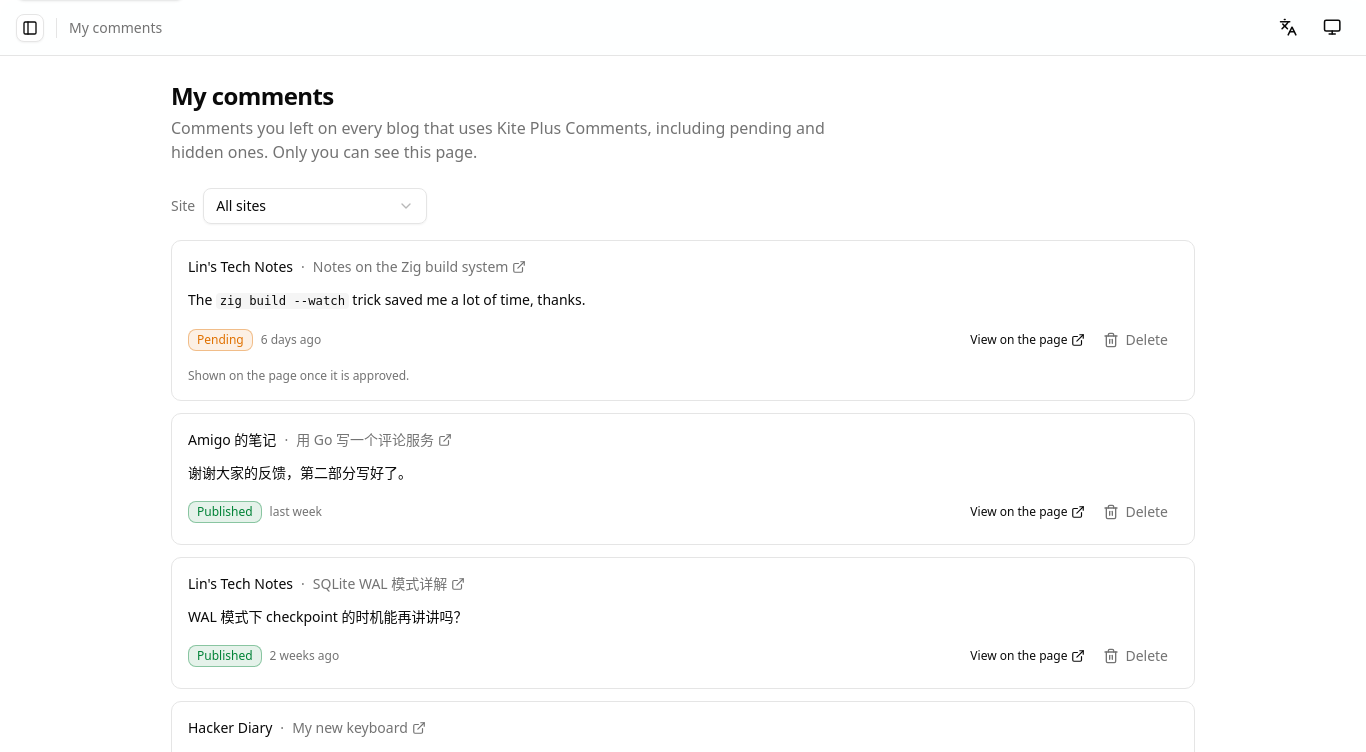
Test: language › switches between English and Chinese
The image size is (1366, 752).
Expected: the heading "My comments" is shown, [171,79,334,112]
Step 1. Click the button named "Language" → (1288, 28), box [1270,10,1306,46]
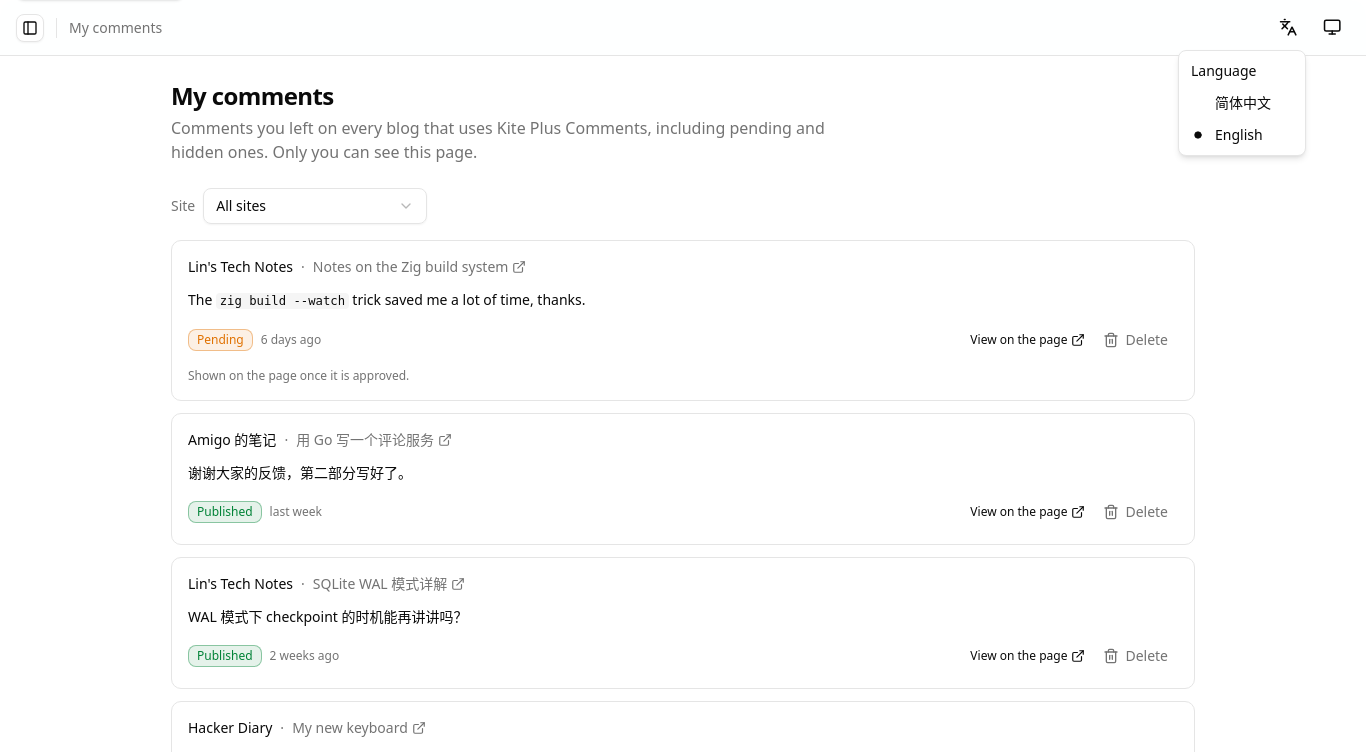
Step 2. Click the menu item "简体中文" → (1243, 102), box [1215,93,1271,112]
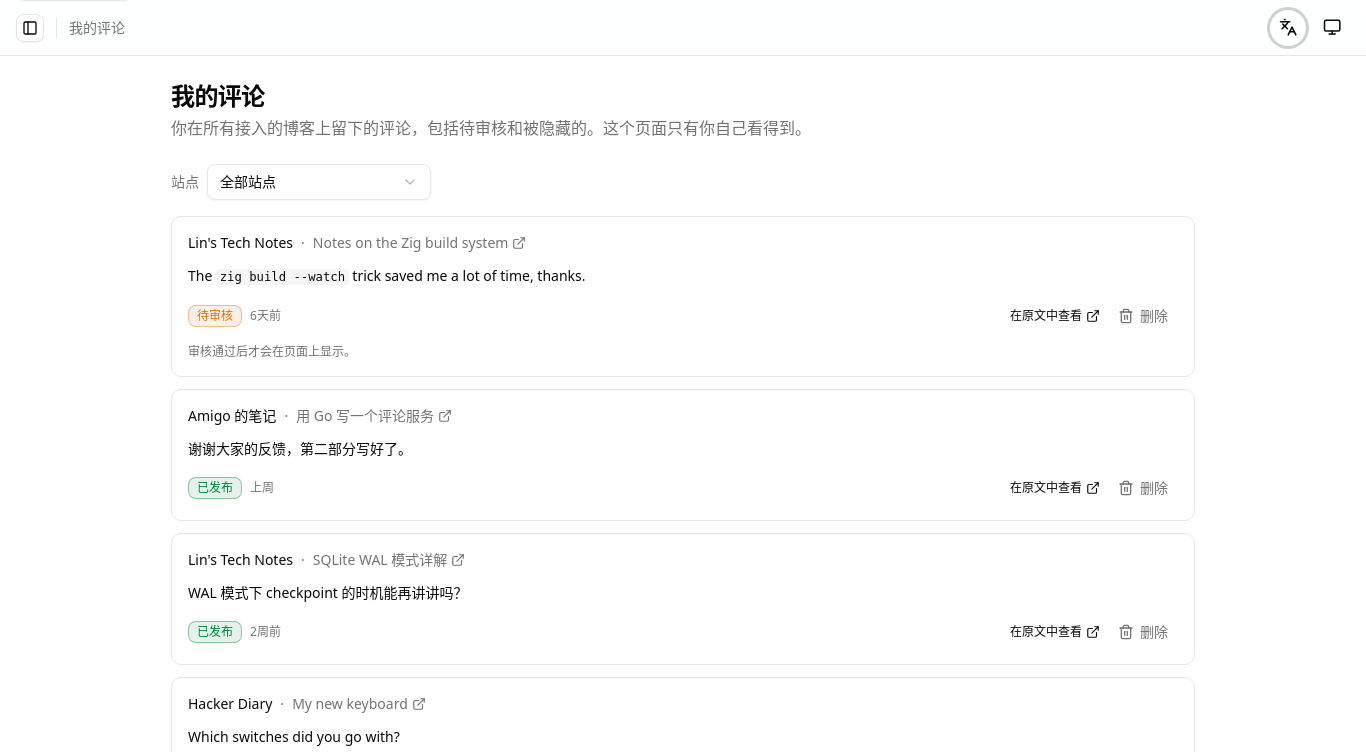
Expected: the heading "我的评论" is shown, [171,79,265,112]
